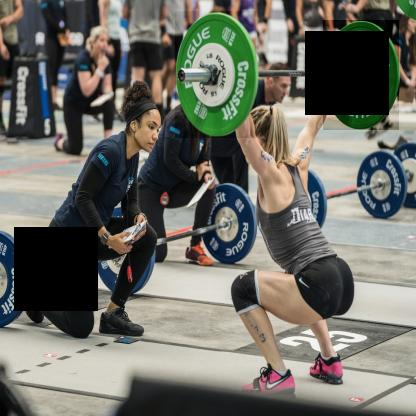barbell: (176, 12, 257, 139), (324, 21, 400, 131)
